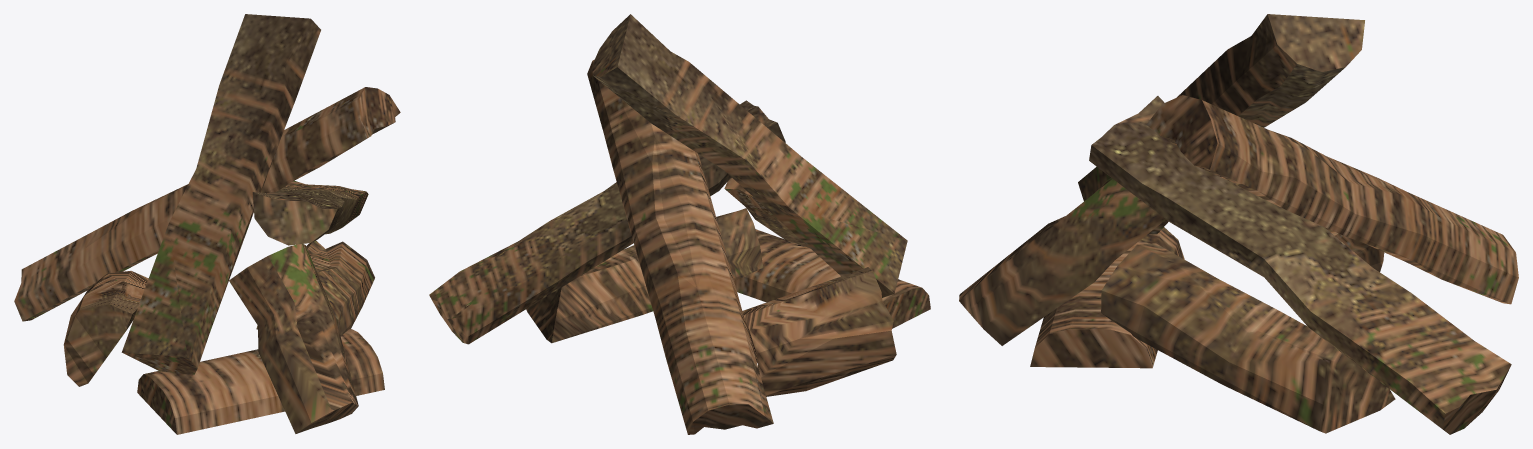
The model's file is m_wood.fbx.
3 views of the same model, side by side, from view 1: azimuth 30°, elevation 25°; view 2: azimuth 150°, elevation 25°; view 3: azimuth 270°, elevation 25° (orthographic). The views are drawn at different scales.
Parts seen in each view (by area): view 1: polySurface1037; view 2: polySurface1037; view 3: polySurface1037.
Part boxes in pixels (box(x1,y1,x2,y2)): polySurface1037: box(14, 14, 400, 434); polySurface1037: box(429, 14, 930, 434); polySurface1037: box(959, 14, 1518, 434).
Bounding box in the file's own units: 188 × 148 × 191.
